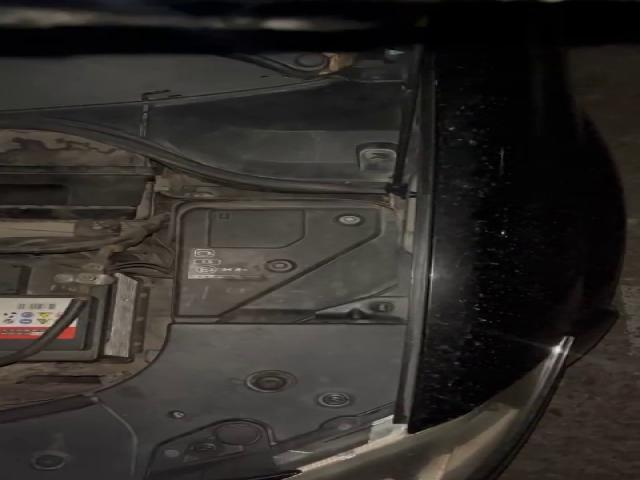accumulator: (0, 246, 140, 363)
fuse_box: (175, 208, 383, 321)
